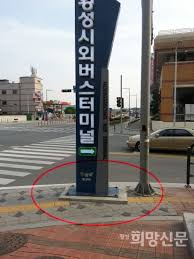guide_blocks: (127, 194, 194, 206), (2, 200, 67, 211)
